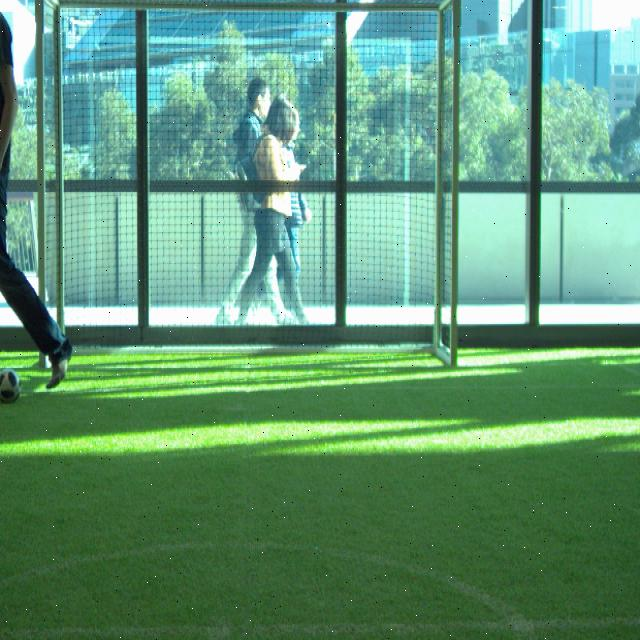ball: (1, 368, 22, 404)
goalpost: (36, 0, 48, 371), (452, 2, 462, 366)
